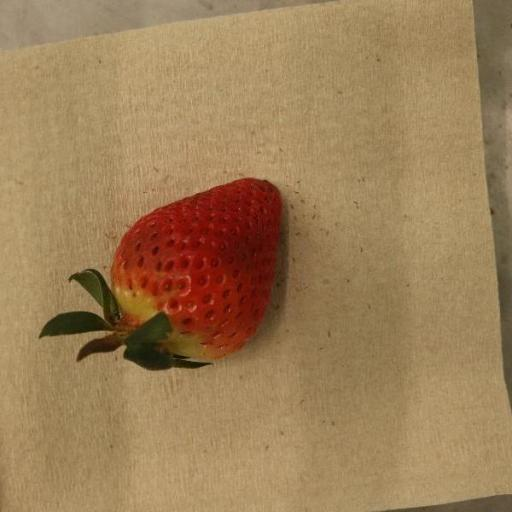Strawberry: (38, 178, 281, 372)
